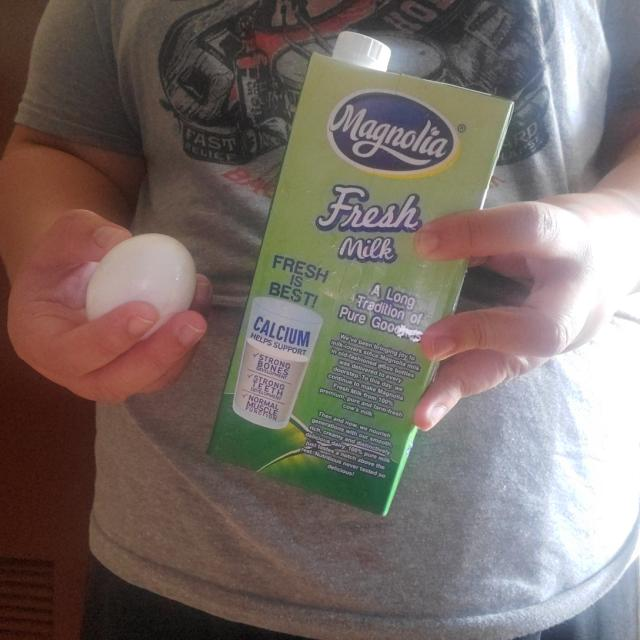egg: (87, 230, 196, 340)
milk: (208, 32, 516, 508)
